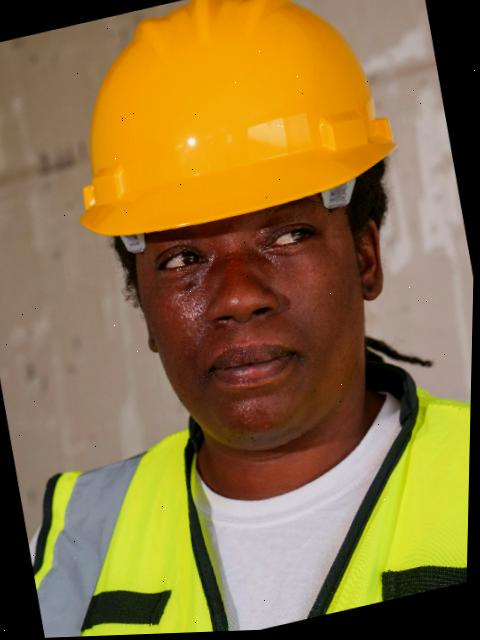helmet: (42, 0, 414, 254)
vest: (13, 364, 473, 639)
